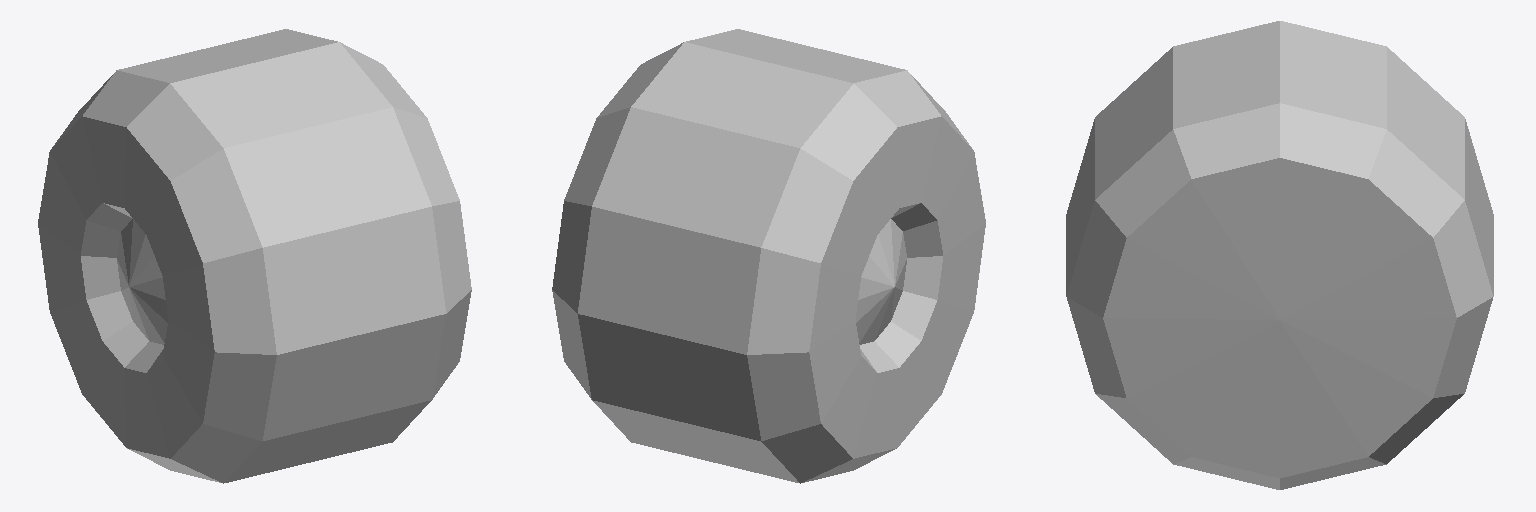
Rendered from spacetruck_large_wheel_front_right.obj.
The picture shows the model from 3 angles: view 1: azimuth 30°, elevation 25°; view 2: azimuth 150°, elevation 25°; view 3: azimuth 270°, elevation 25°; orthographic projection.
Parts seen in each view (by area): view 1: spacetruck_large_wheel_front_right_Cylinder.2693; view 2: spacetruck_large_wheel_front_right_Cylinder.2693; view 3: spacetruck_large_wheel_front_right_Cylinder.2693.
Boxes of the visible parts, x1,y1,x2,y2 form: spacetruck_large_wheel_front_right_Cylinder.2693: [38, 29, 471, 483]; spacetruck_large_wheel_front_right_Cylinder.2693: [552, 29, 985, 483]; spacetruck_large_wheel_front_right_Cylinder.2693: [1066, 21, 1493, 489].
Bounding box in the file's own units: 0.162 × 0.228 × 0.228.